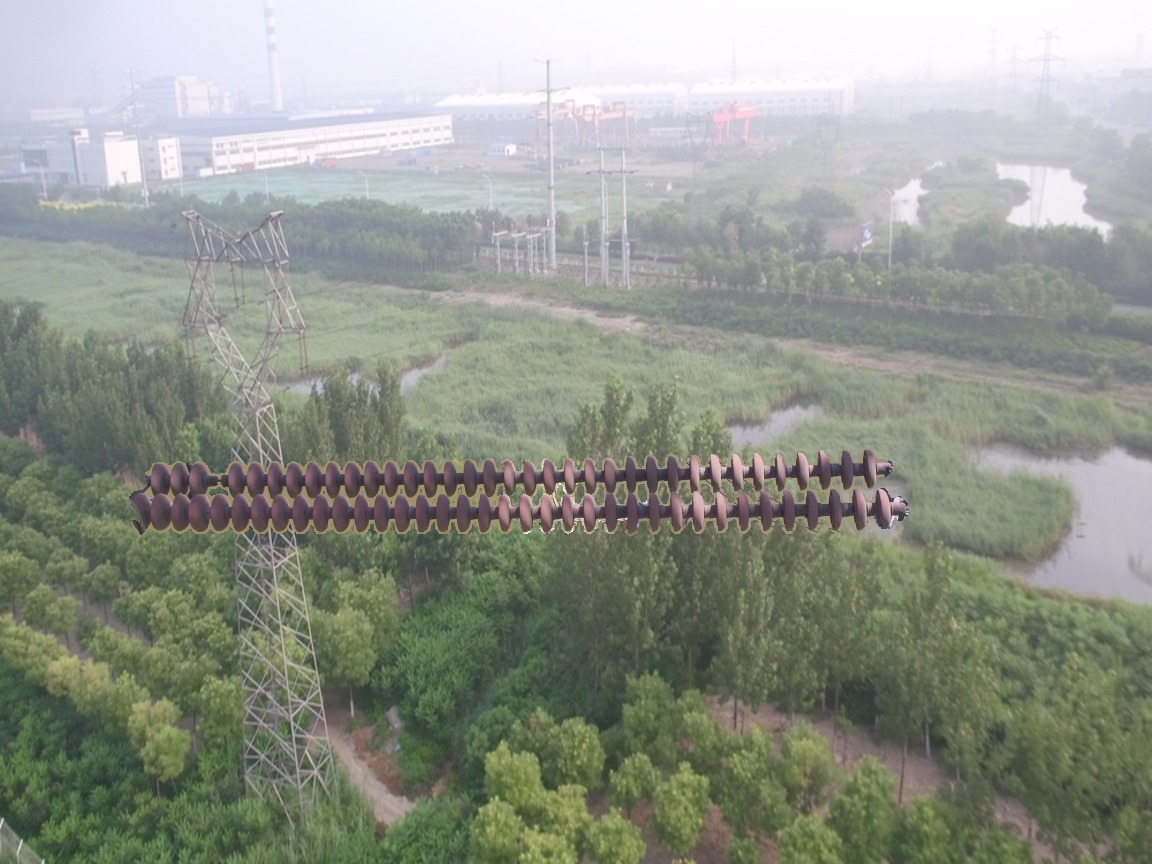defect: (186, 460, 243, 497)
